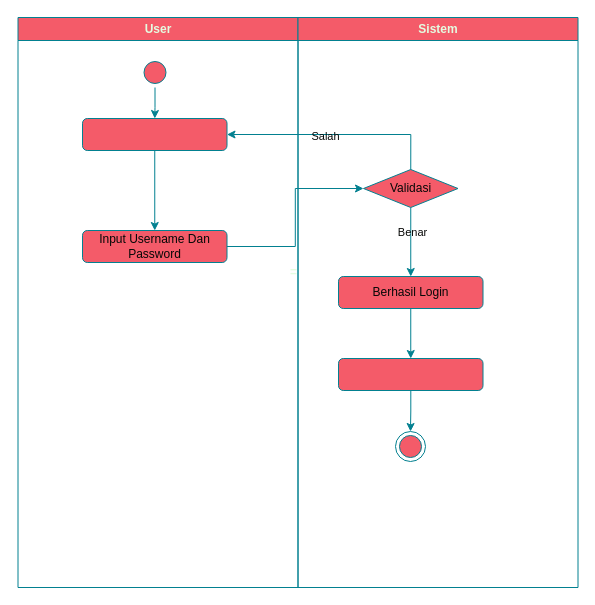
The diagram is 595 pixels wide and 605 high, and some of its shapes have lost their labels. The centre of each missing label's shape, as x and y in pixels:
Buka Halaman Login: point (154, 134)
Halaman Utama: point (410, 374)
